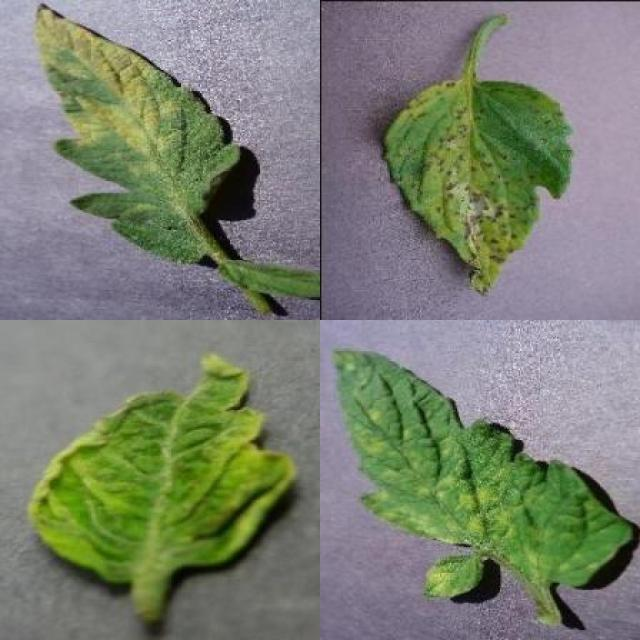Leaf Mold: (330, 345, 633, 602), (37, 5, 243, 262)
Septoria: (382, 78, 572, 296)
Yellow Leaf Curl Virus: (27, 356, 299, 586)
